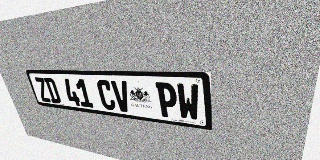1: (74, 79, 94, 108)
4: (62, 78, 81, 106)
C: (96, 80, 117, 111)
D: (43, 78, 62, 104)
P: (155, 82, 179, 119)
V: (111, 80, 132, 113)
W: (176, 83, 200, 121)
Z: (34, 77, 52, 102)
